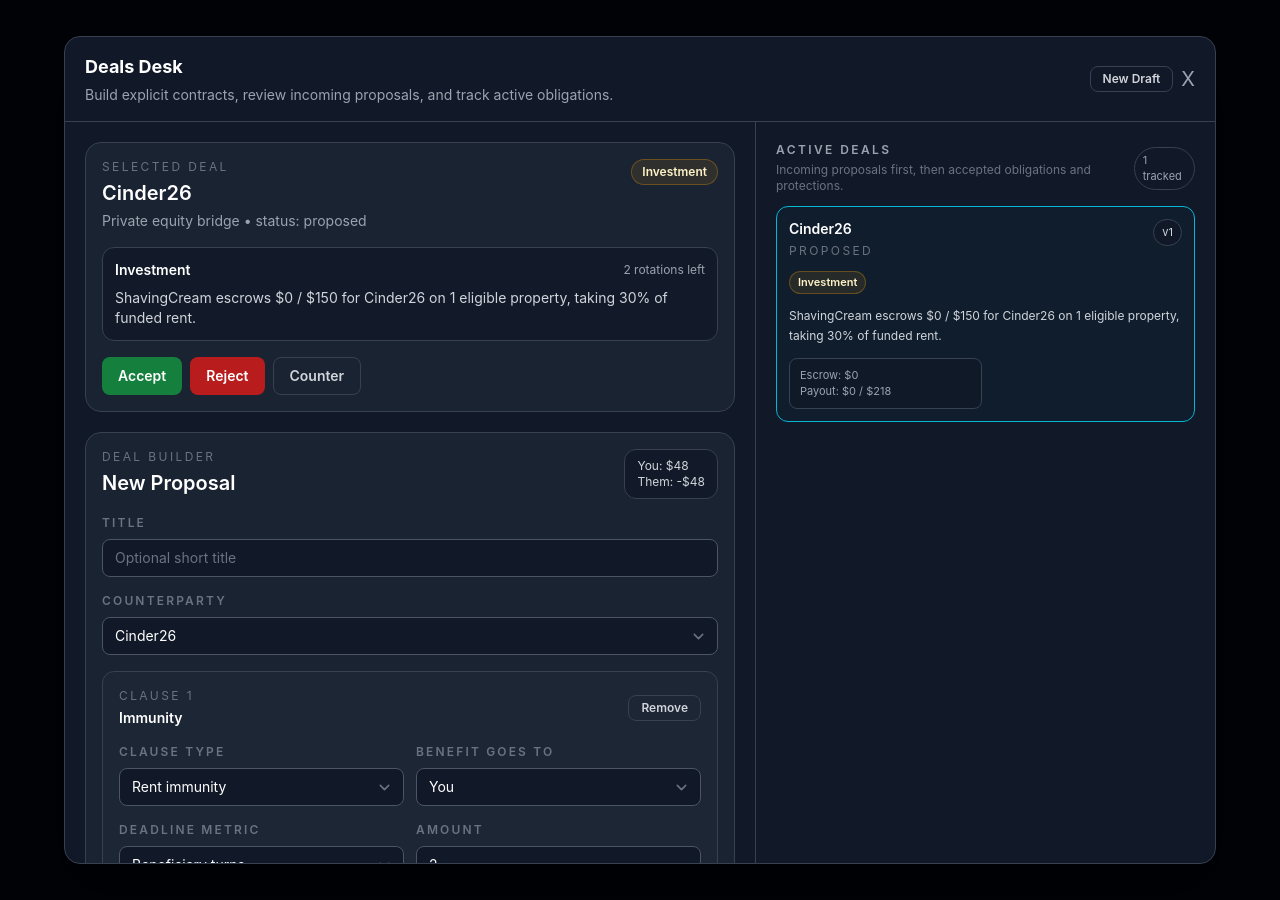
DealDeskModal › preserves the counter draft when the server rejects the counteroffer
This screenshot has width=1280, height=900.
Click the button "Counter". click: [317, 376]
box: [272,357,361,395]
(page scrolled)
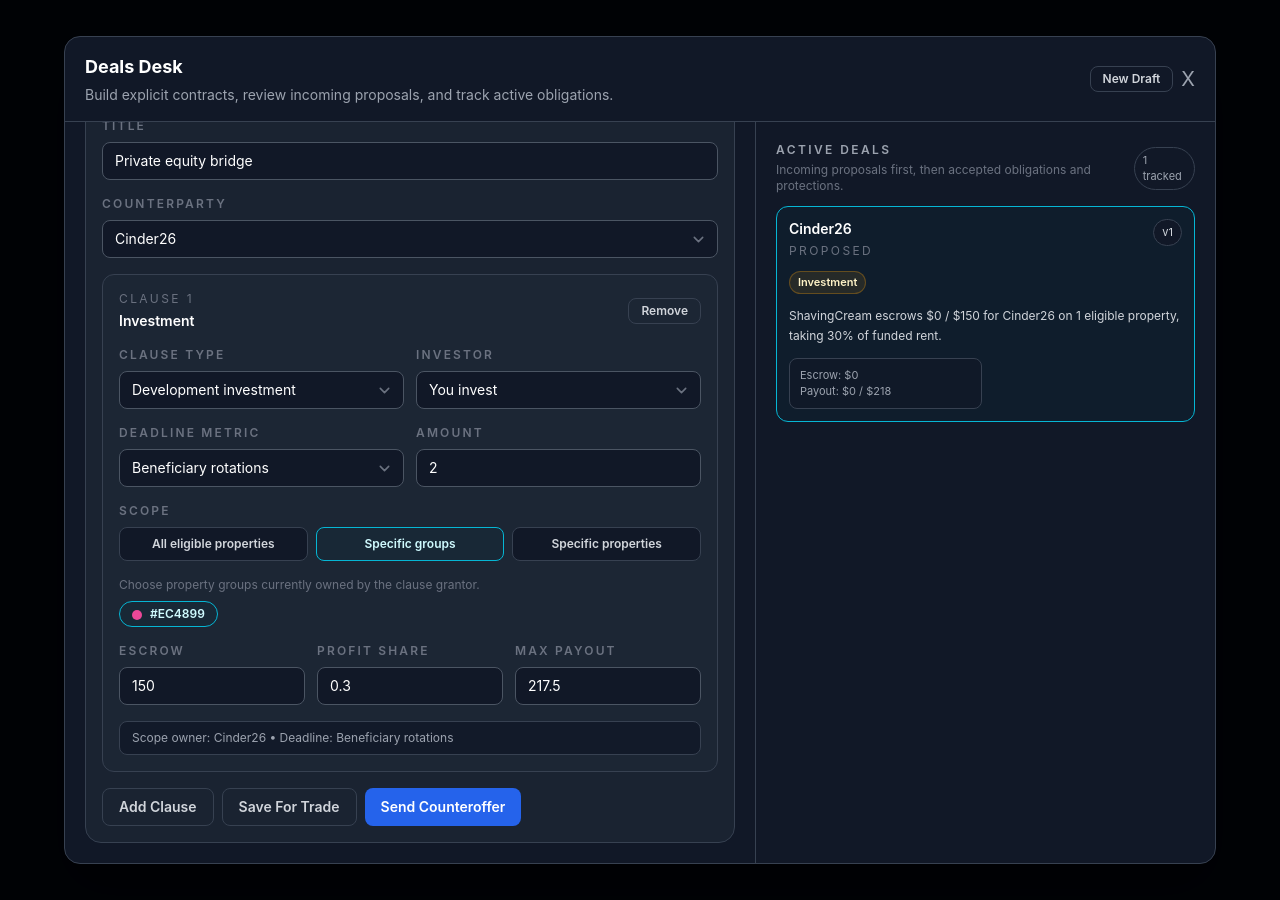
Click the button "Send Counteroffer". click: [443, 807]
box: [364,788,521,826]
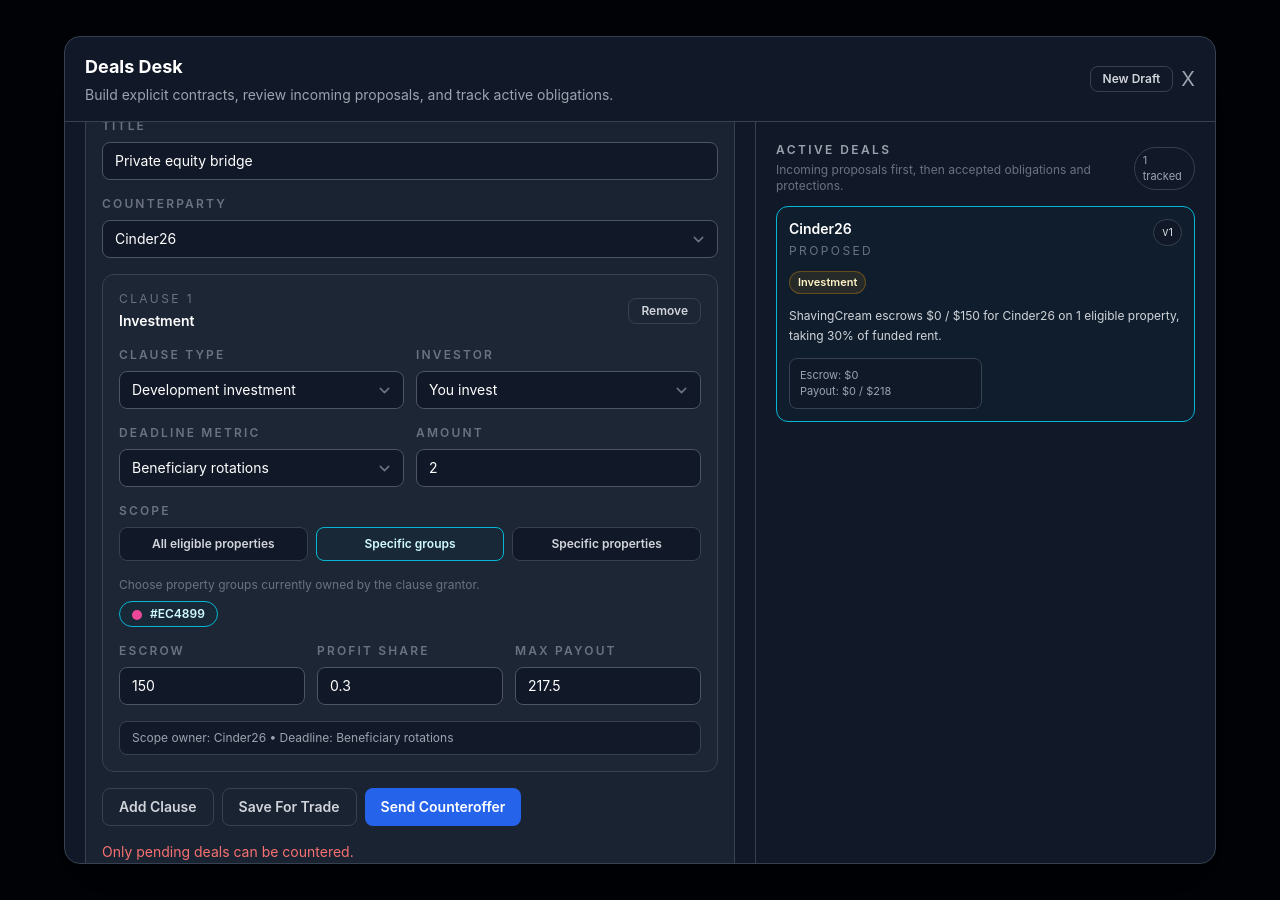
Check: the field showing "Private equity bridge" is shown, box [102,142,718,180]
Check: the text "Only pending deals can be countered." is shown, box [102,843,354,860]
